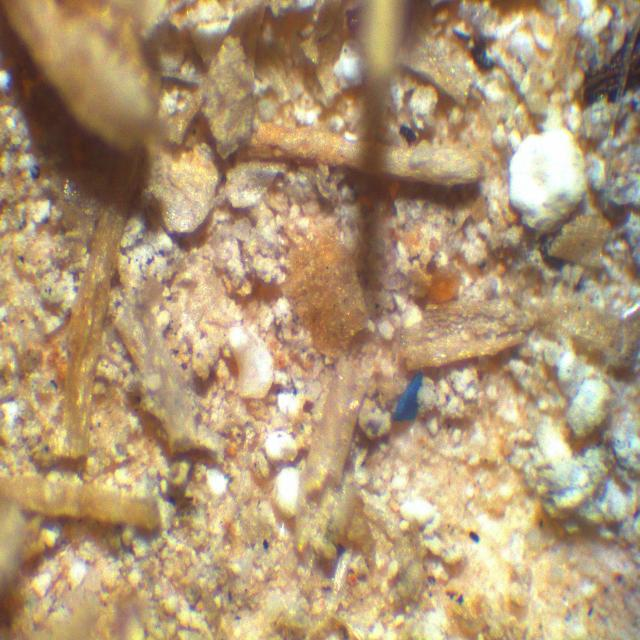microplastic: (394, 370, 422, 422)
